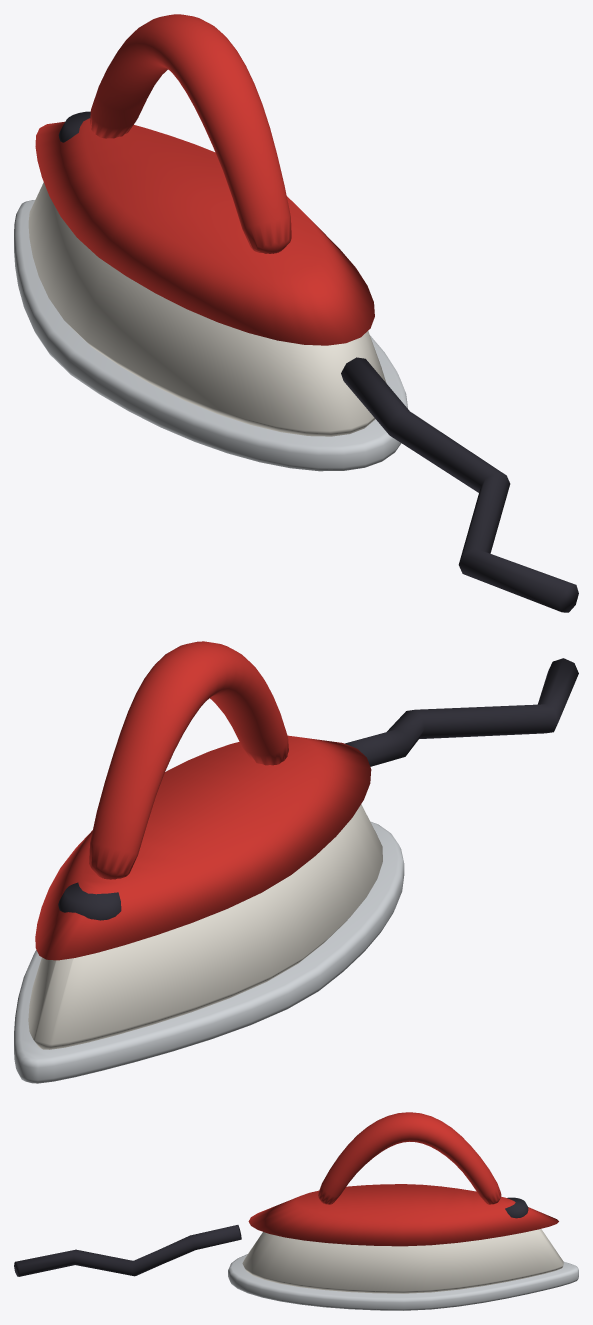
File: iron.glb
3 views of the same model, one above another, from view 1: azimuth 30°, elevation 25°; view 2: azimuth 150°, elevation 25°; view 3: azimuth 270°, elevation 25° (orthographic). The views are drawn at different scales.
Parts seen in each view (by area): view 1: iron; view 2: iron; view 3: iron.
Part boxes in pixels (left/top/right/bottom): iron: left=14, top=14, right=578, bottom=612; iron: left=14, top=641, right=578, bottom=1083; iron: left=14, top=1112, right=578, bottom=1310.
Size of the model in its own units: 0.13 by 0.1561 by 0.482.
